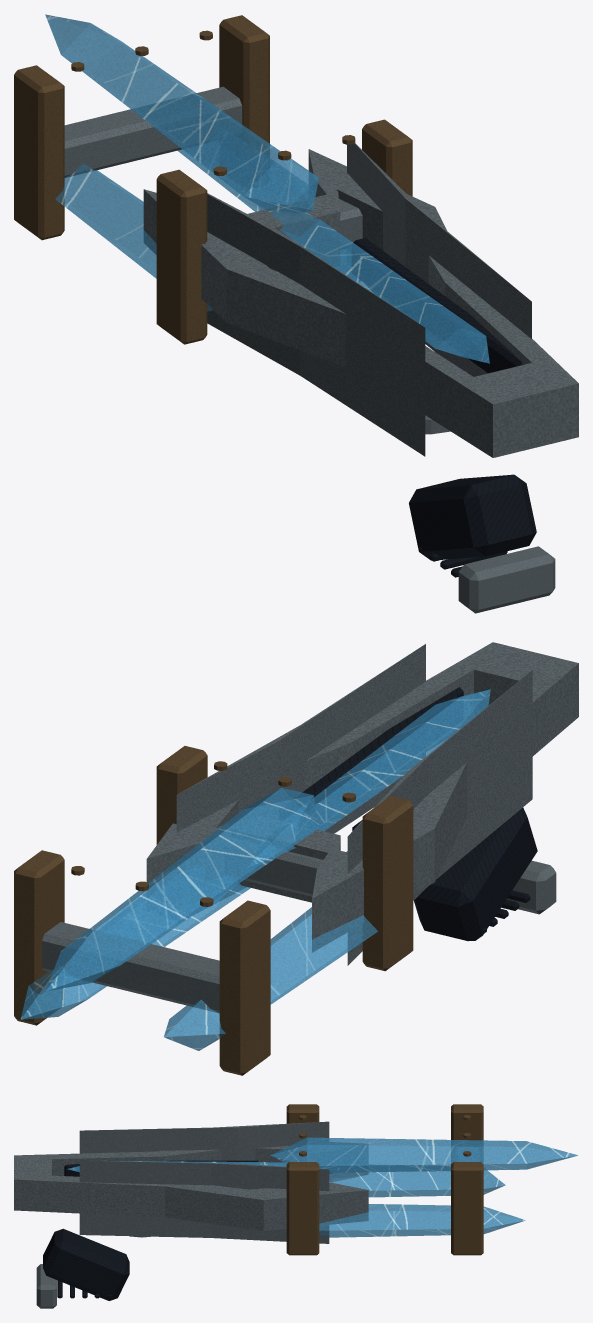
The model's file is rime-focus-damaged.glb.
3 views of the same model, one above another, from view 1: azimuth 30°, elevation 25°; view 2: azimuth 150°, elevation 25°; view 3: azimuth 270°, elevation 25° (orthographic). The views are drawn at different scales.
Parts seen in each view (by area): view 1: Sculpted open silver receiver, Swept receiver fin, Independent ice cartridge, Swept receiver fin.001, Cartridge clamp bridge.001, Angled slate pistol grip, Rear dorsal ice conduit, Locking cartridge side bracket.002, Locking cartridge side bracket, Slate receiver spine.001, Independent ice cartridge.001, Locking cartridge side bracket.003 (+3 smaller); view 2: Sculpted open silver receiver, Independent ice cartridge, Swept receiver fin.001, Swept receiver fin, Cartridge clamp bridge.001, Locking cartridge side bracket.002, Locking cartridge side bracket, Angled slate pistol grip, Rear dorsal ice conduit, Locking cartridge side bracket.003, Independent ice cartridge.001, Slate receiver spine.001 (+4 smaller); view 3: Sculpted open silver receiver, Swept receiver fin.001, Independent ice cartridge, Swept receiver fin, Independent ice cartridge.002, Angled slate pistol grip, Locking cartridge side bracket.001, Locking cartridge side bracket.003, Independent ice cartridge.001, Locking cartridge side bracket.002, Silver flared grip heel, Locking cartridge side bracket (+3 smaller).
Part boxes in pixels (box(x1,y1,x2,y2)): Sculpted open silver receiver: box(143, 149, 578, 457); Swept receiver fin: box(207, 193, 425, 456); Independent ice cartridge: box(45, 14, 318, 215); Swept receiver fin.001: box(347, 143, 531, 376); Cartridge clamp bridge.001: box(64, 86, 242, 177); Angled slate pistol grip: box(409, 474, 536, 560); Rear dorsal ice conduit: box(245, 184, 489, 363); Locking cartridge side bracket.002: box(14, 65, 64, 240); Locking cartridge side bracket: box(156, 169, 207, 344); Slate receiver spine.001: box(352, 238, 522, 373); Independent ice cartridge.001: box(55, 163, 212, 311); Locking cartridge side bracket.003: box(219, 15, 269, 156); Sculpted open silver receiver: box(146, 642, 578, 952); Independent ice cartridge: box(45, 787, 319, 991); Swept receiver fin.001: box(176, 644, 425, 911); Swept receiver fin: box(347, 670, 532, 965); Cartridge clamp bridge.001: box(42, 922, 219, 1013); Locking cartridge side bracket.002: box(219, 900, 270, 1075); Locking cartridge side bracket: box(362, 796, 413, 971); Angled slate pistol grip: box(414, 807, 537, 941); Rear dorsal ice conduit: box(245, 689, 490, 868); Locking cartridge side bracket.003: box(14, 850, 64, 1025); Independent ice cartridge.001: box(164, 907, 377, 1050); Slate receiver spine.001: box(279, 687, 463, 824); Sculpted open silver receiver: box(14, 1142, 368, 1230); Swept receiver fin.001: box(79, 1160, 329, 1243); Independent ice cartridge: box(270, 1137, 578, 1172); Swept receiver fin: box(79, 1121, 329, 1160); Independent ice cartridge.002: box(319, 1204, 525, 1237); Angled slate pistol grip: box(43, 1228, 129, 1300); Locking cartridge side bracket.001: box(286, 1162, 319, 1255); Locking cartridge side bracket.003: box(451, 1162, 483, 1255); Independent ice cartridge.001: box(329, 1170, 505, 1197); Locking cartridge side bracket.002: box(451, 1104, 483, 1163); Silver flared grip heel: box(36, 1264, 56, 1308); Locking cartridge side bracket: box(286, 1104, 319, 1123).
Bounding box in the file's own units: 0.2355 × 0.275 × 0.86.
4 materials, 4 textured.
